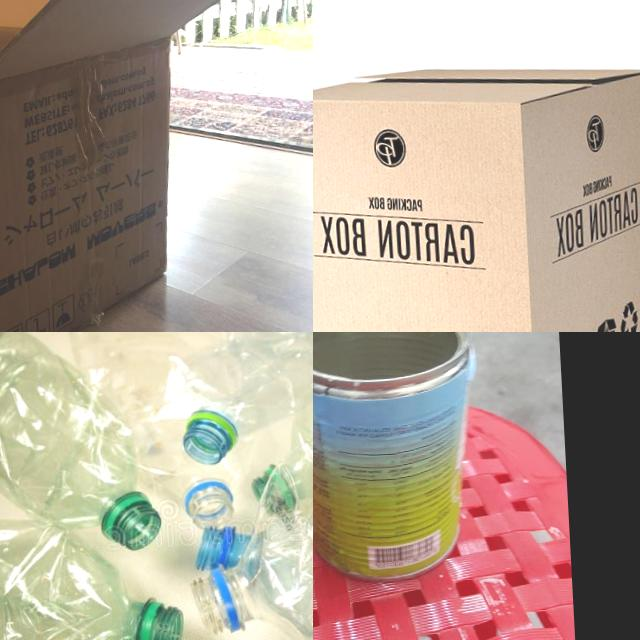garrafa plástica: (0, 332, 164, 561), (69, 332, 246, 537), (184, 391, 313, 639), (0, 476, 186, 640), (177, 332, 313, 463)
lata: (313, 332, 481, 591)
papelão: (0, 0, 309, 332), (313, 55, 640, 332)
